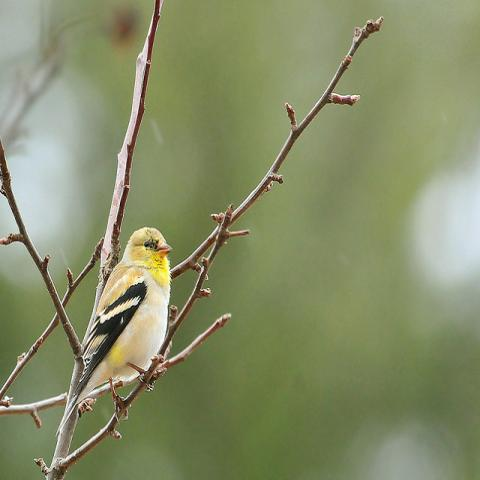bird: (56, 224, 174, 428)
